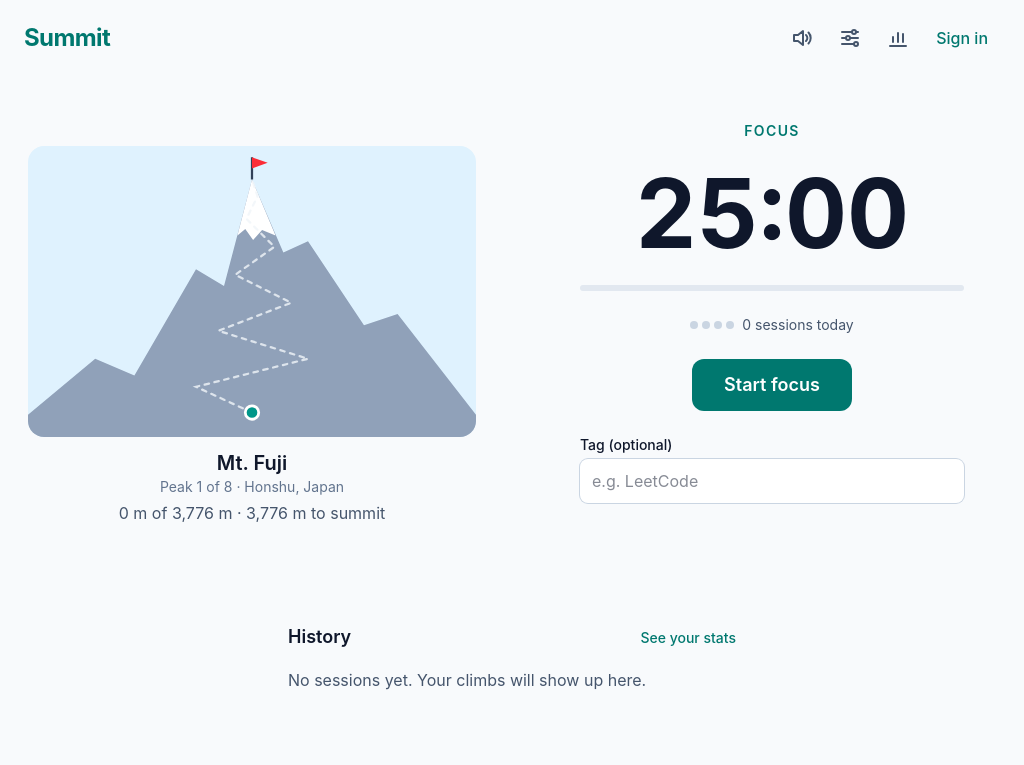
App: asking for notification permission › asks the browser when the user clicks 'Turn on', then hides the card
The width and height of the screenshot is (1024, 765).
Click the button "Start focus" at (772,384), box [692,358,852,410]
Wait 1500000 ms
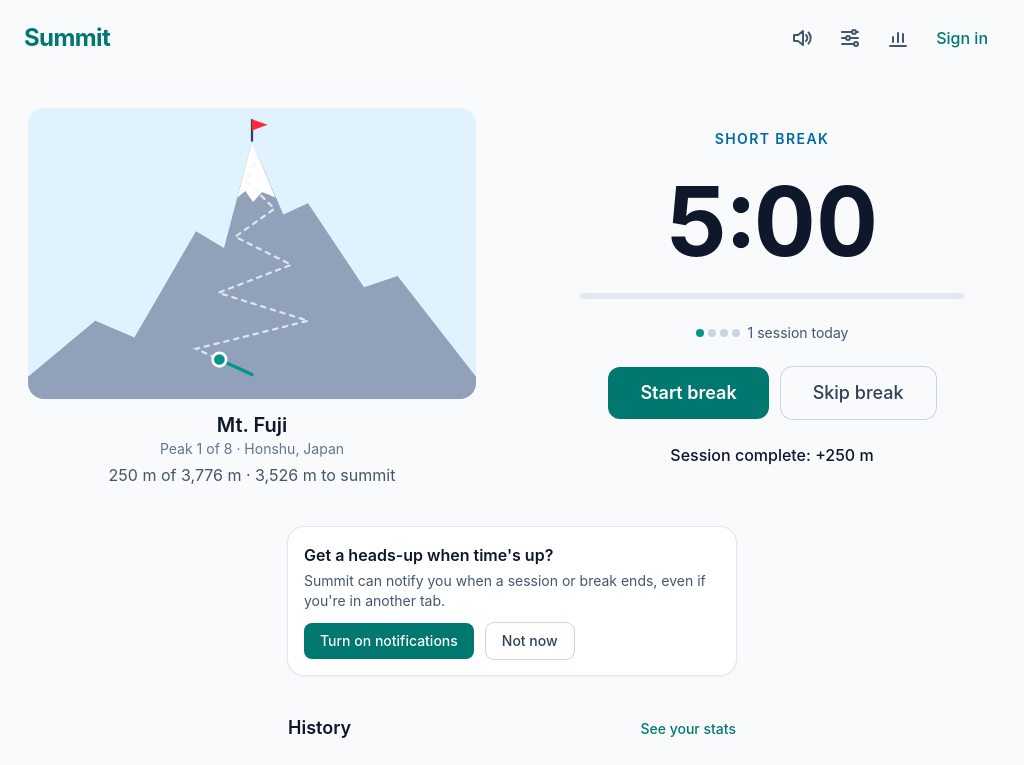
Click the button "Turn on notifications" at (389,641), box [304,623,474,659]
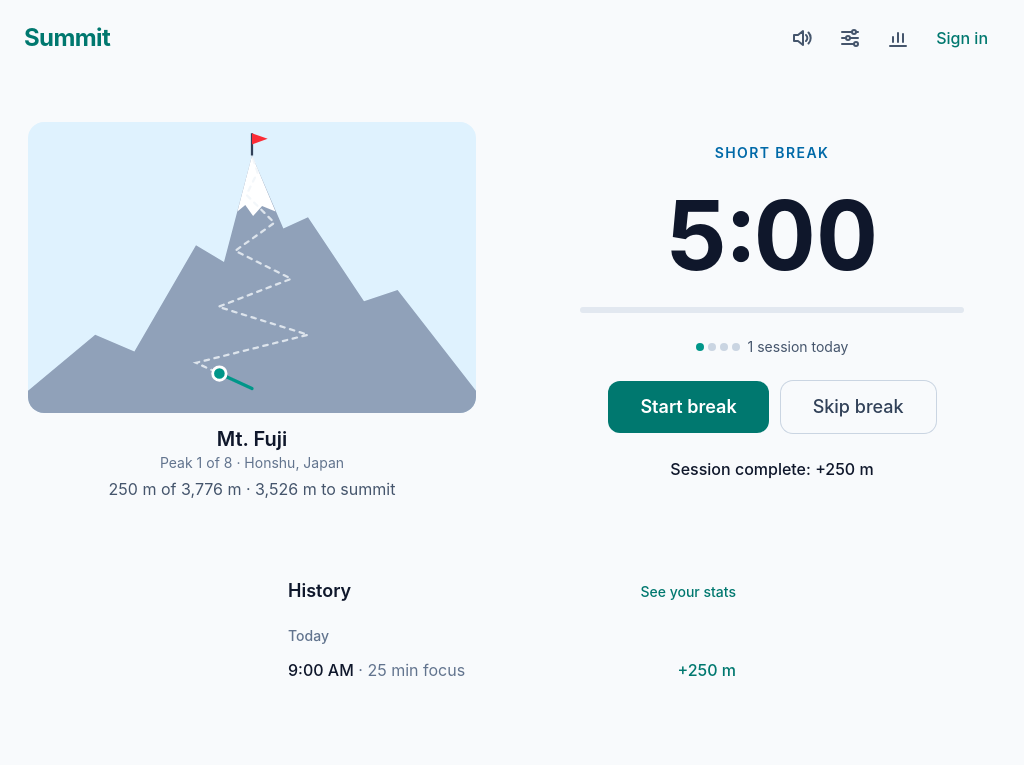
Expected: the heading "heads-up when time's up" is gone
